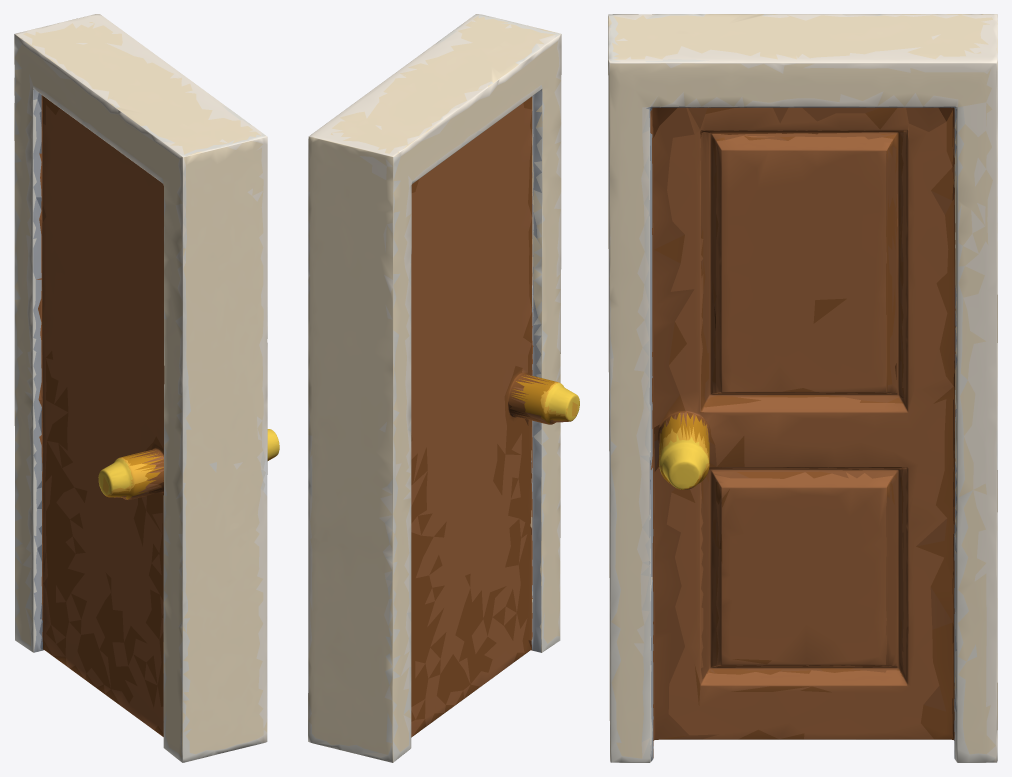
The model's file is SM_door_wood_open.glb.
3 views of the same model, side by side, from view 1: azimuth 30°, elevation 25°; view 2: azimuth 150°, elevation 25°; view 3: azimuth 270°, elevation 25° (orthographic). The views are drawn at different scales.
Parts seen in each view (by area): view 1: SM_door_wood_open; view 2: SM_door_wood_open; view 3: SM_door_wood_open.
Boxes of the visible parts, x1,y1,x2,y2 form: SM_door_wood_open: (14,14,279,762); SM_door_wood_open: (308,14,579,762); SM_door_wood_open: (608,14,997,762).
Size of the model in its own units: 0.5823 by 2 by 1.01.
1 material, 1 textured.
